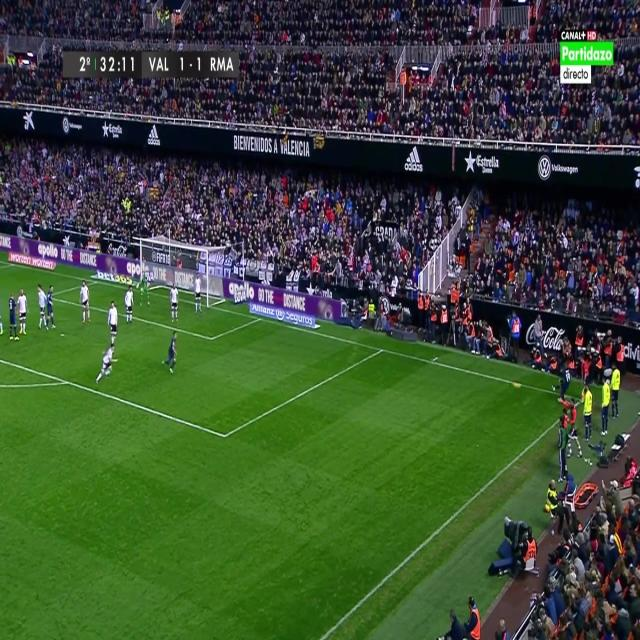Ball: (510, 378, 523, 396)
Goalkeeper: (137, 272, 154, 314)
Player: (92, 343, 120, 387), (160, 329, 180, 378), (549, 362, 571, 402), (105, 297, 122, 348), (78, 278, 93, 327), (18, 284, 31, 338), (190, 272, 205, 318), (47, 283, 60, 334), (6, 288, 18, 342), (167, 280, 180, 326), (35, 283, 46, 334), (123, 287, 135, 322)
